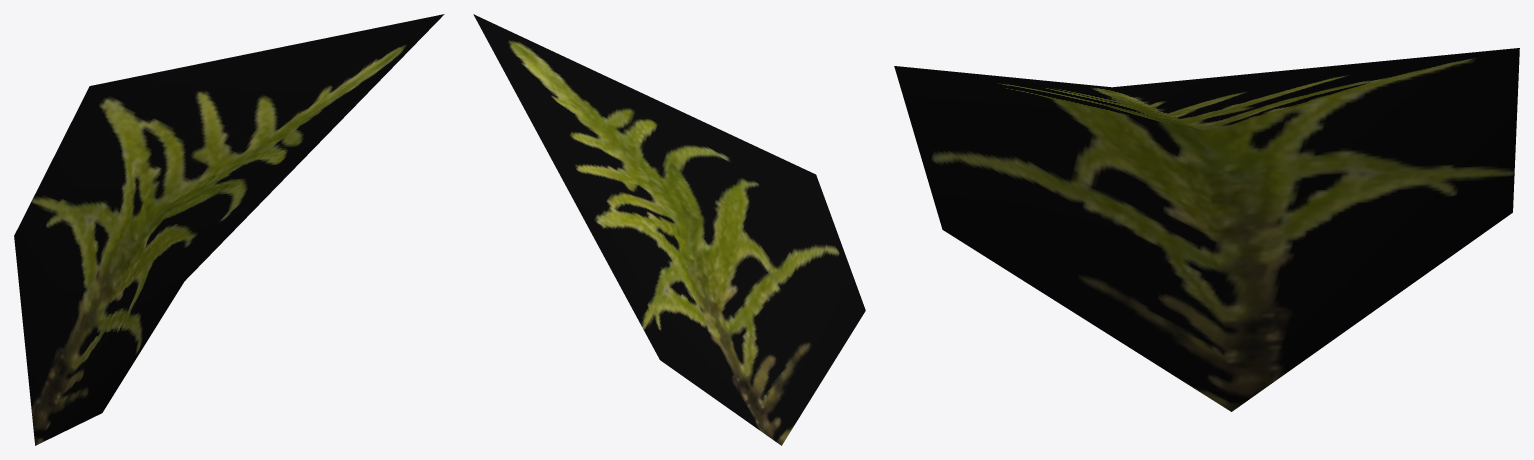
Rendered from Moss_09.fbx.
3 views of the same model, side by side, from view 1: azimuth 30°, elevation 25°; view 2: azimuth 150°, elevation 25°; view 3: azimuth 270°, elevation 25° (orthographic). The views are drawn at different scales.
Parts seen in each view (by area): view 1: Moss_09; view 2: Moss_09; view 3: Moss_09.
Boxes of the visible parts, x1,y1,x2,y2 form: Moss_09: (14,14,444,445); Moss_09: (473,14,865,445); Moss_09: (894,48,1519,411).
Size of the model in its own units: 0.08 by 0.0715 by 0.0619.
Materials: 1 (1 with a texture image).
